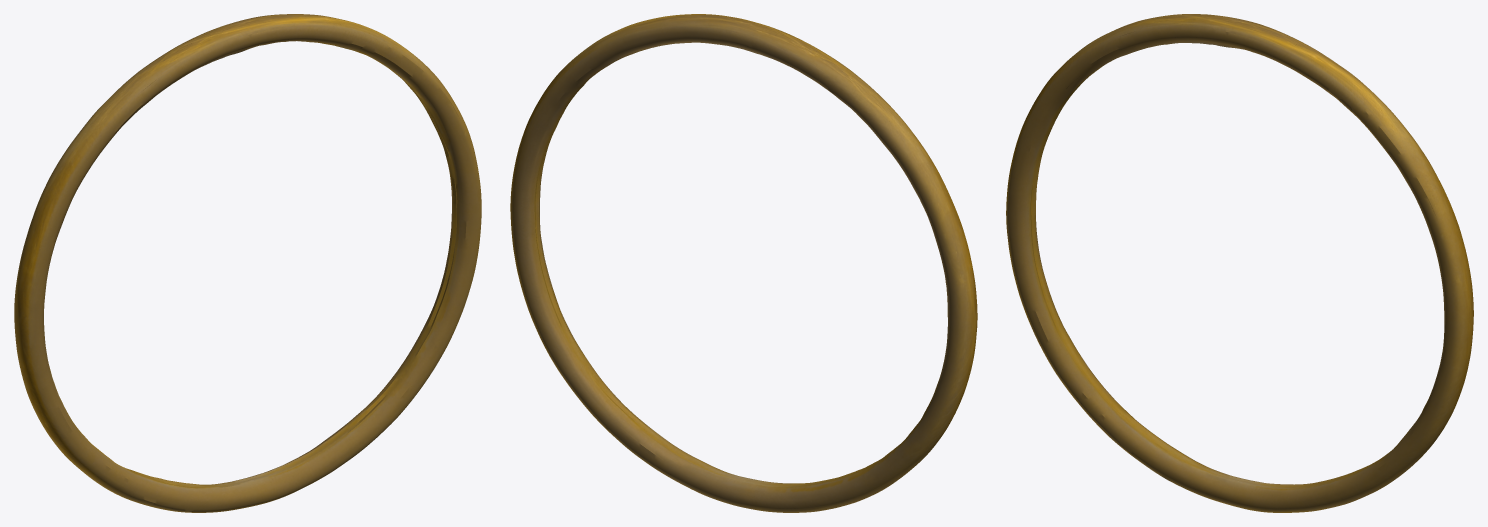
File: gold ring.glb
The picture shows the model from 3 angles, left to right: view 1: azimuth 30°, elevation 25°; view 2: azimuth 150°, elevation 25°; view 3: azimuth 330°, elevation 25°; orthographic projection.
Visible parts, largest first — view 1: output; view 2: output; view 3: output.
Boxes of the visible parts, x1,y1,x2,y2 form: output: (14,14,481,512); output: (510,14,977,512); output: (1006,14,1473,512).
Bounding box in the file's own units: 2.01 × 2.01 × 0.1286.
Materials: 1 (1 with a texture image).
